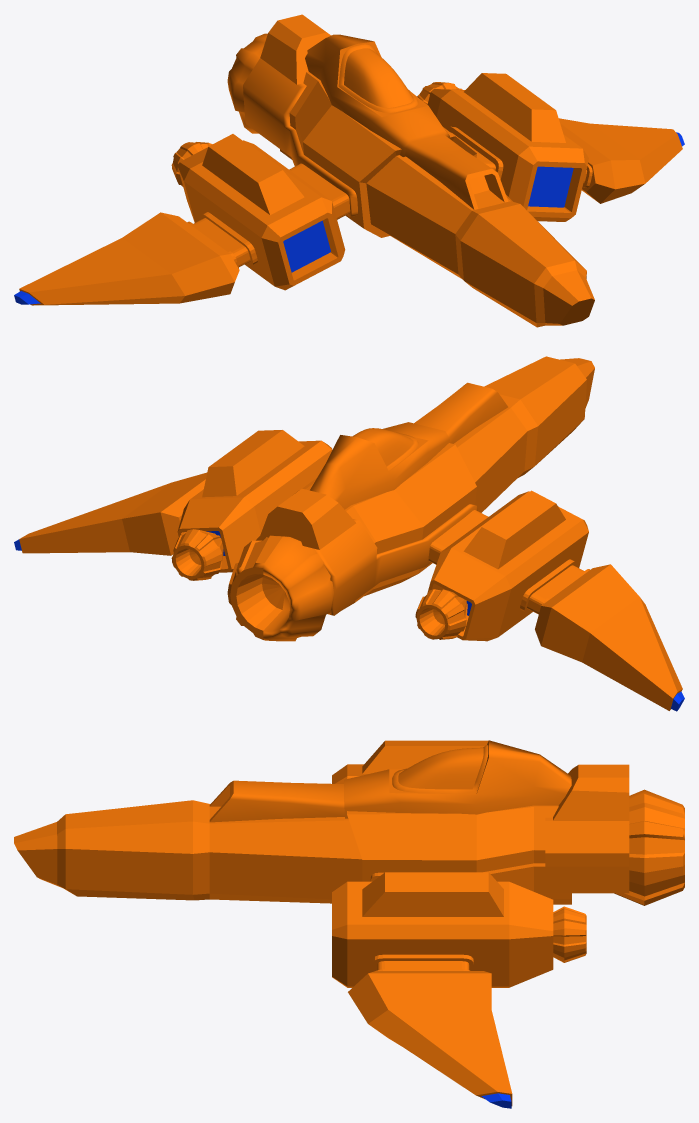
File: M_Ship_Player_Boost_1_Bln.fbx
3 views of the same model, one above another, from view 1: azimuth 30°, elevation 25°; view 2: azimuth 150°, elevation 25°; view 3: azimuth 270°, elevation 25° (orthographic). The views are drawn at different scales.
Parts seen in each view (by area): view 1: Ship_Boost_1_Base_low; view 2: Ship_Boost_1_Base_low; view 3: Ship_Boost_1_Base_low.
Part boxes in pixels (x1,y1,x2,y2): Ship_Boost_1_Base_low: (14,14,684,327); Ship_Boost_1_Base_low: (14,356,684,711); Ship_Boost_1_Base_low: (14,740,684,1108).
Size of the model in its own units: 1048 by 281 by 879.
